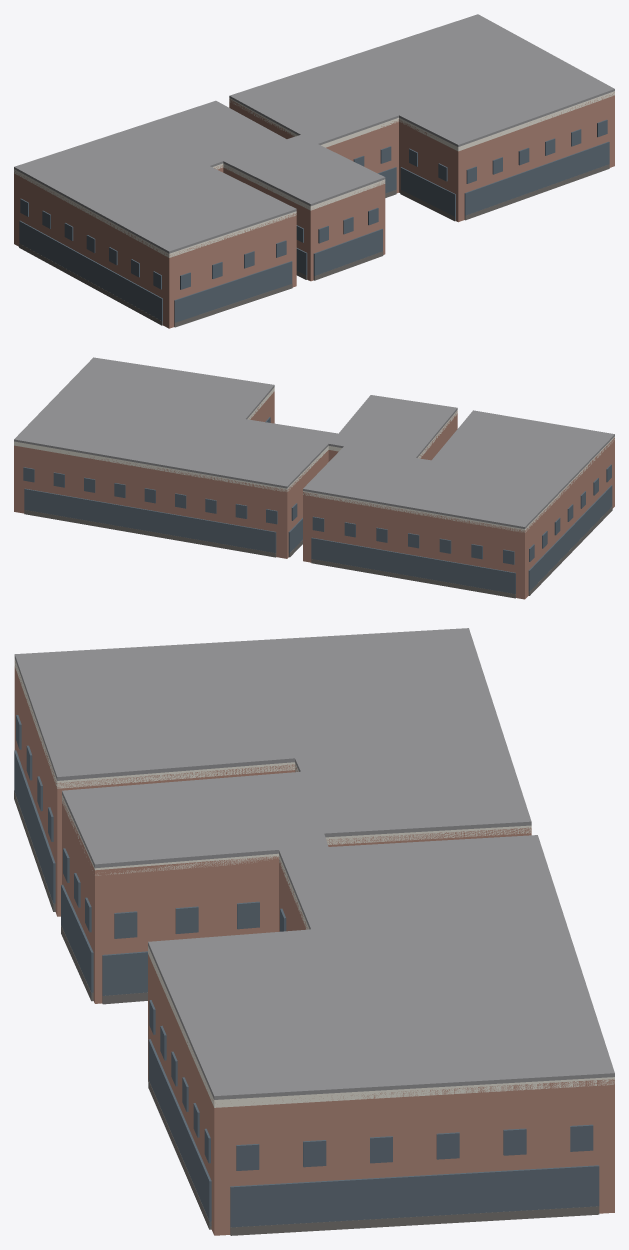
The model's file is s45_gis_248150_820747.glb.
The picture shows the model from 3 angles, top to bottom: view 1: azimuth 30°, elevation 25°; view 2: azimuth 150°, elevation 25°; view 3: azimuth 270°, elevation 25°; orthographic projection. The views are drawn at different scales.
Visible parts, largest first — view 1: roofcap, mass, cornice, store_13, store_4, store_5, store_9, store_12, bulk_13, bulk_4, bulk_5; view 2: roofcap, mass, store_15, store_3, cornice, store_4, bulk_15, bulk_3, bulk_4, store_0; view 3: roofcap, mass, store_14, cornice, bulk_14, store_13, store_5, store_10, store_9.
Part boxes in pixels (x1,y1,x2,y2): roofcap: [14, 14, 614, 253]; mass: [14, 92, 614, 328]; cornice: [14, 91, 614, 257]; store_13: [464, 141, 609, 217]; store_4: [19, 220, 162, 323]; store_5: [174, 261, 292, 325]; store_9: [313, 228, 382, 275]; store_12: [400, 167, 455, 219]; bulk_13: [464, 164, 609, 220]; bulk_4: [19, 243, 162, 325]; bulk_5: [174, 283, 292, 327]; roofcap: [14, 357, 614, 528]; mass: [14, 391, 614, 599]; store_15: [24, 488, 276, 554]; store_3: [311, 537, 515, 593]; cornice: [14, 387, 614, 532]; store_4: [528, 485, 612, 593]; bulk_15: [24, 510, 276, 557]; bulk_3: [311, 559, 515, 598]; bulk_4: [528, 506, 612, 595]; store_0: [288, 518, 302, 554]; roofcap: [14, 628, 614, 1099]; mass: [14, 662, 614, 1235]; store_14: [230, 1165, 599, 1231]; cornice: [14, 658, 614, 1107]; bulk_14: [230, 1206, 599, 1235]; store_13: [148, 1039, 211, 1225]; store_5: [14, 750, 55, 905]; store_10: [102, 951, 147, 995]; store_9: [61, 884, 93, 995].
Size of the model in its own units: 60.06 by 8.35 by 32.58.
